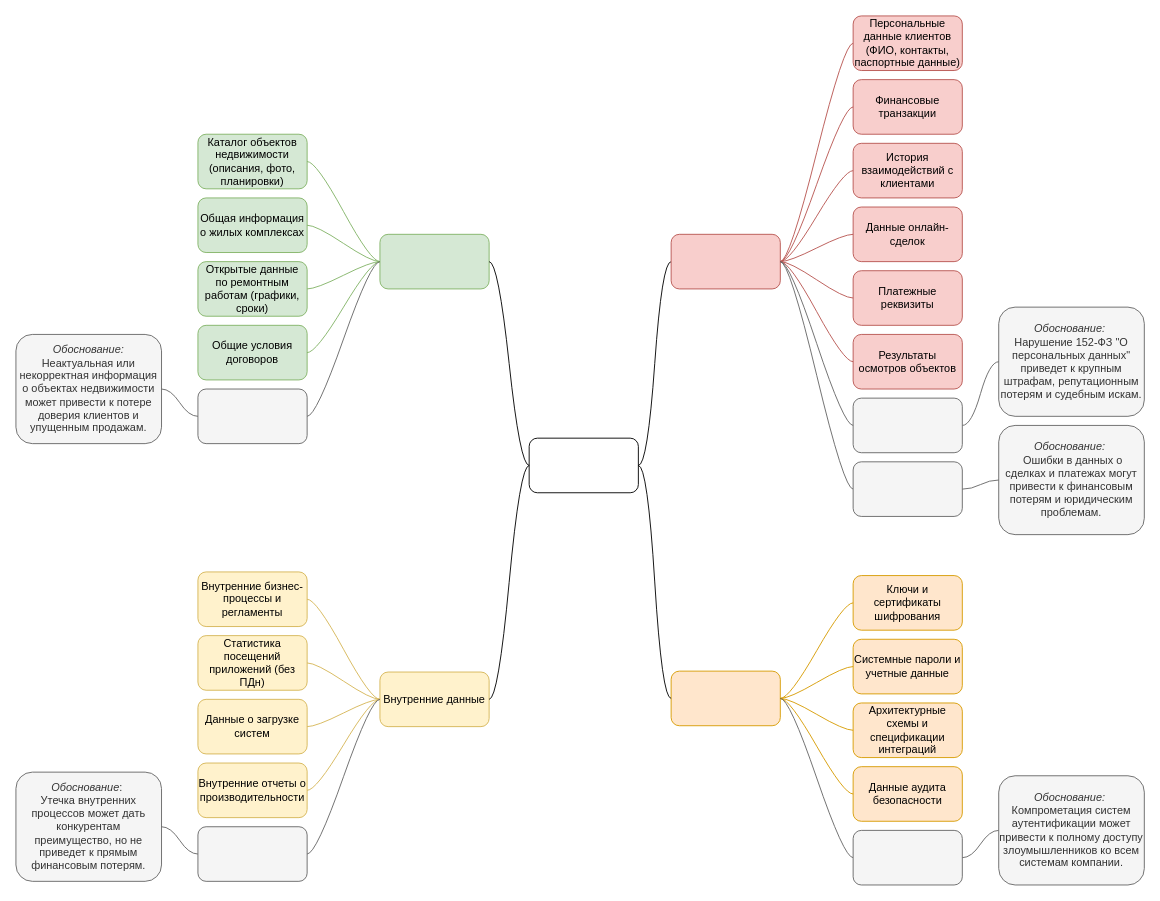
Image size: 1160x901. Some labels were removed from this diagram. Here are the shapes that lost their labels. From the top down, the centre of each, then its label:
At pixel 434 261: "Публичные данные".
At pixel 725 261: "Конфиденциальные данные".
At pixel 252 416: "Риск обесценивания данных - Значительный".
At pixel 907 425: "Риск утечки ПДн - Критический".
At pixel 583 465: "Безопасность данных".
At pixel 907 488: "Риск искажения финансовых данных Критический".
At pixel 725 698: "Секретные данные".
At pixel 252 853: "Риск утечки данных - Значительный".
At pixel 907 857: "Риск утечки учетных данных - Критический".
